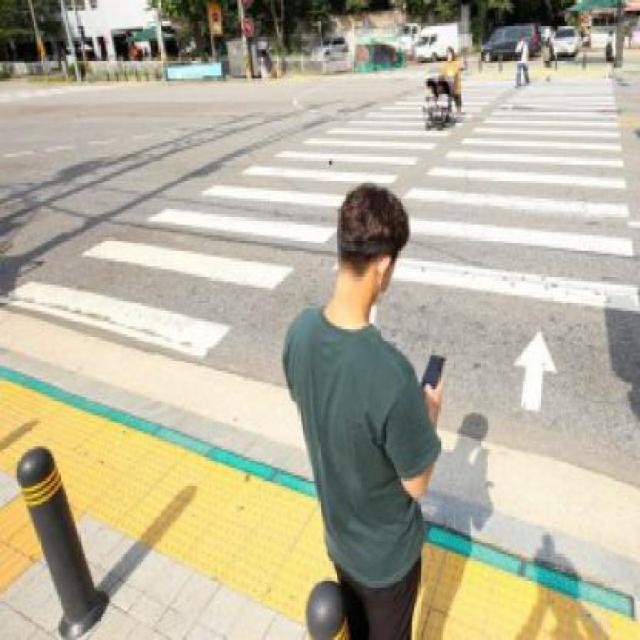Person: (282, 185, 442, 638), (440, 43, 465, 115), (515, 29, 531, 89)
